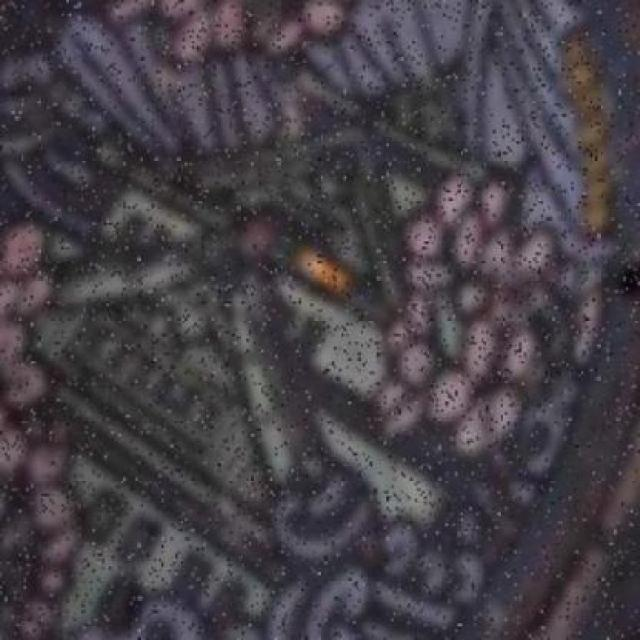Manhole: (7, 6, 638, 640)
